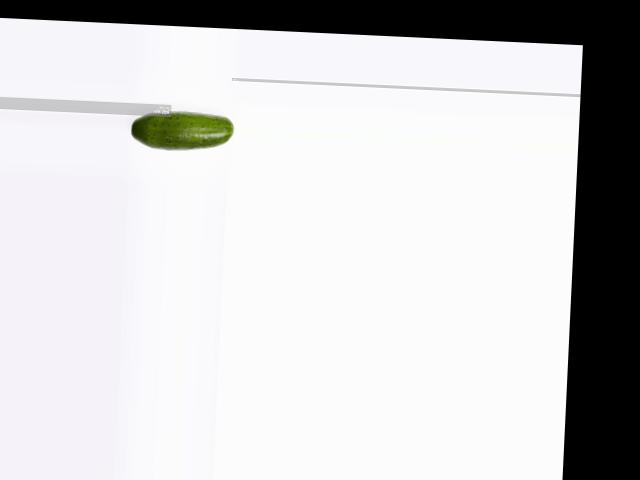cucumber: (128, 108, 234, 153)
